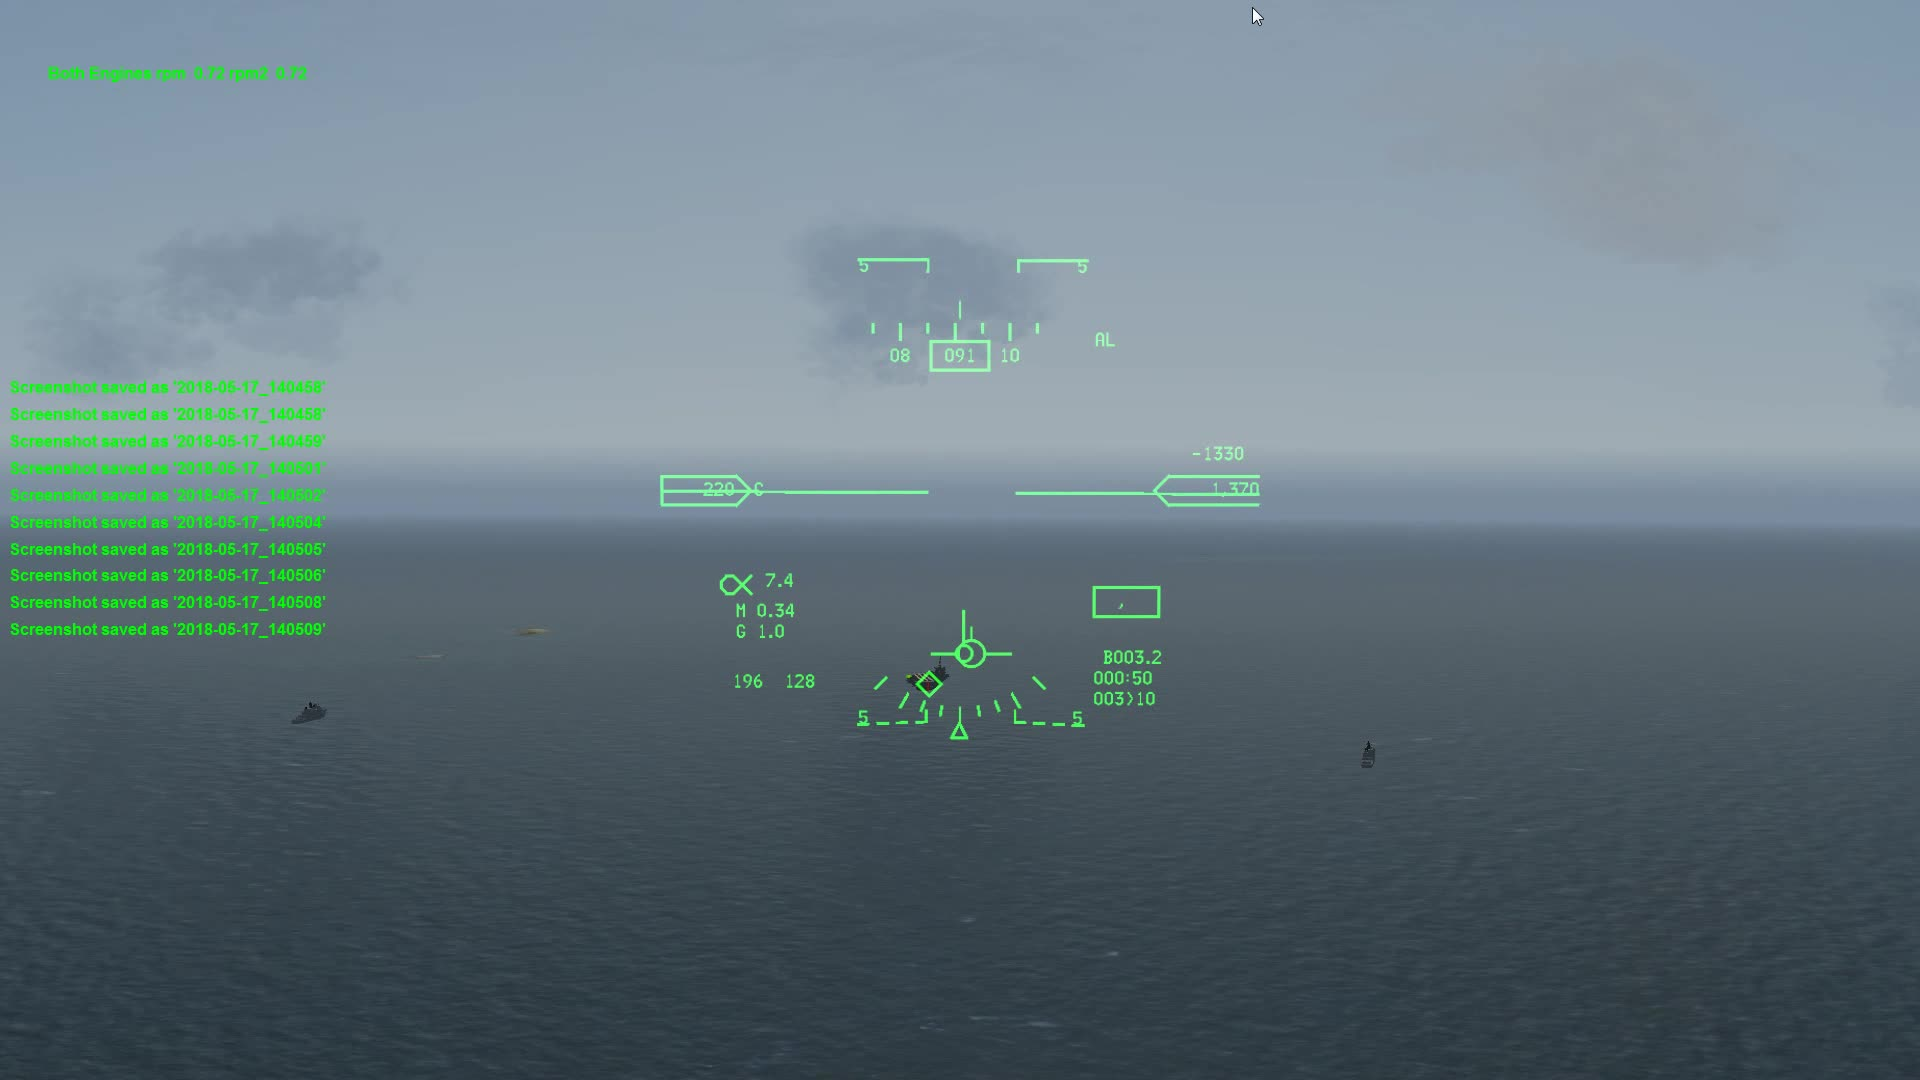speed vector: (928, 615, 1039, 673)
